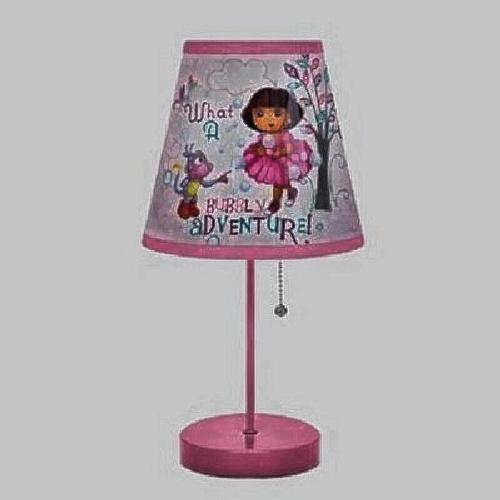lamp: (151, 36, 360, 471)
